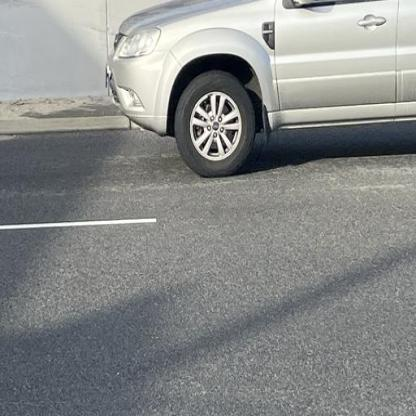Tire: (174, 70, 257, 177)
